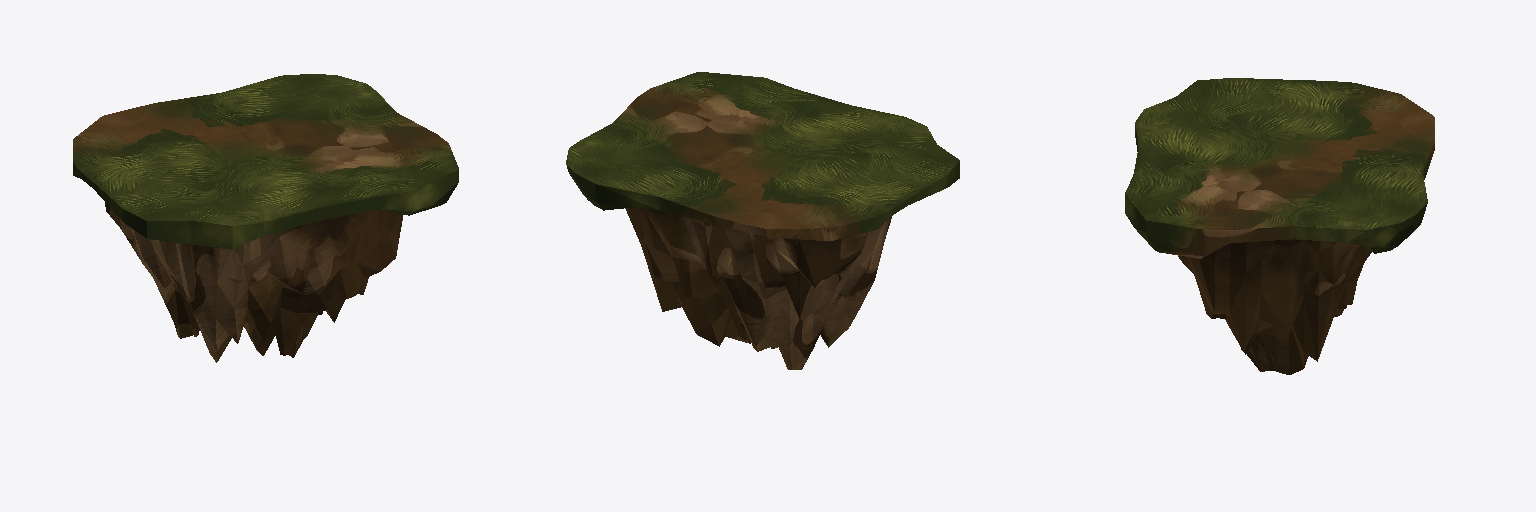
3 views of the same model, side by side, from view 1: azimuth 30°, elevation 25°; view 2: azimuth 150°, elevation 25°; view 3: azimuth 270°, elevation 25° (orthographic).
Visible parts, largest first — view 1: Landscape.001; view 2: Landscape.001; view 3: Landscape.001.
Boxes of the visible parts, box(x1,y1,x2,y2) form: Landscape.001: box(73, 74, 458, 362); Landscape.001: box(566, 72, 959, 369); Landscape.001: box(1125, 78, 1434, 374).
Size of the model in its own units: 79.44 by 49.62 by 68.32.
1 materials, 1 textured.